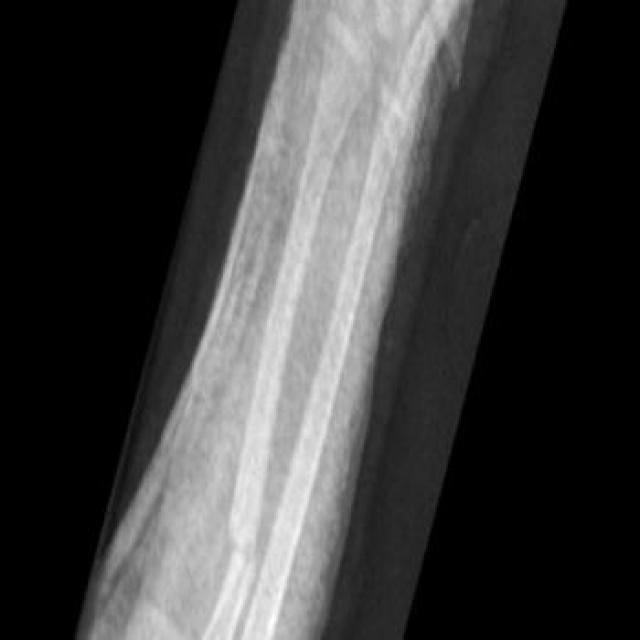Fracture: (218, 508, 267, 582)
